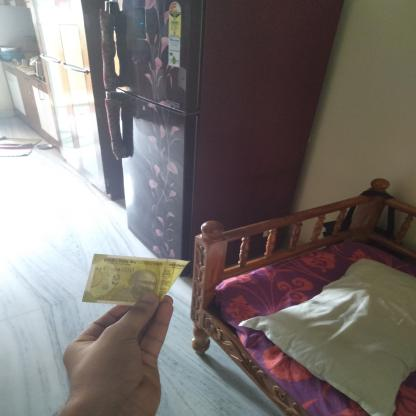New20Front: (82, 255, 186, 306)
